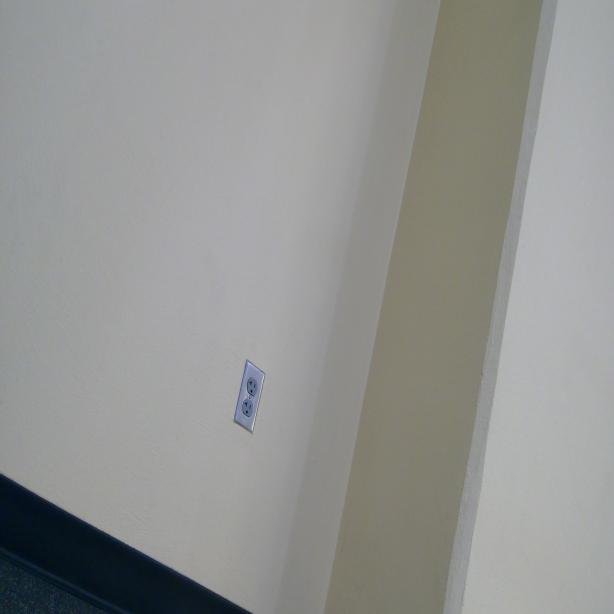typeb: (242, 398, 252, 418), (247, 379, 257, 397)
